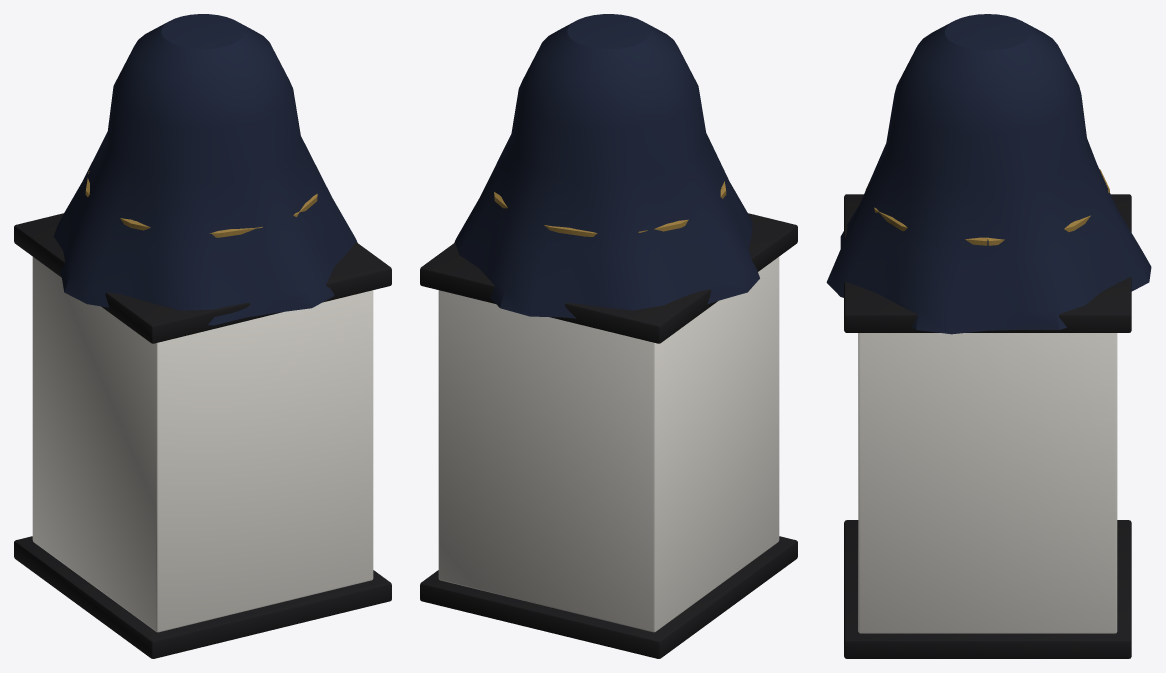
Rendered from display_plinth.glb.
3 views of the same model, side by side, from view 1: azimuth 30°, elevation 25°; view 2: azimuth 150°, elevation 25°; view 3: azimuth 270°, elevation 25° (orthographic). The views are drawn at different scales.
Parts seen in each view (by area): view 1: display_plinth; view 2: display_plinth; view 3: display_plinth.
Boxes of the visible parts, x1,y1,x2,y2 form: display_plinth: (14,14,391,658); display_plinth: (420,14,797,658); display_plinth: (826,14,1151,658).
Bounding box in the file's own units: 0.904 × 1.75 × 0.9039.
